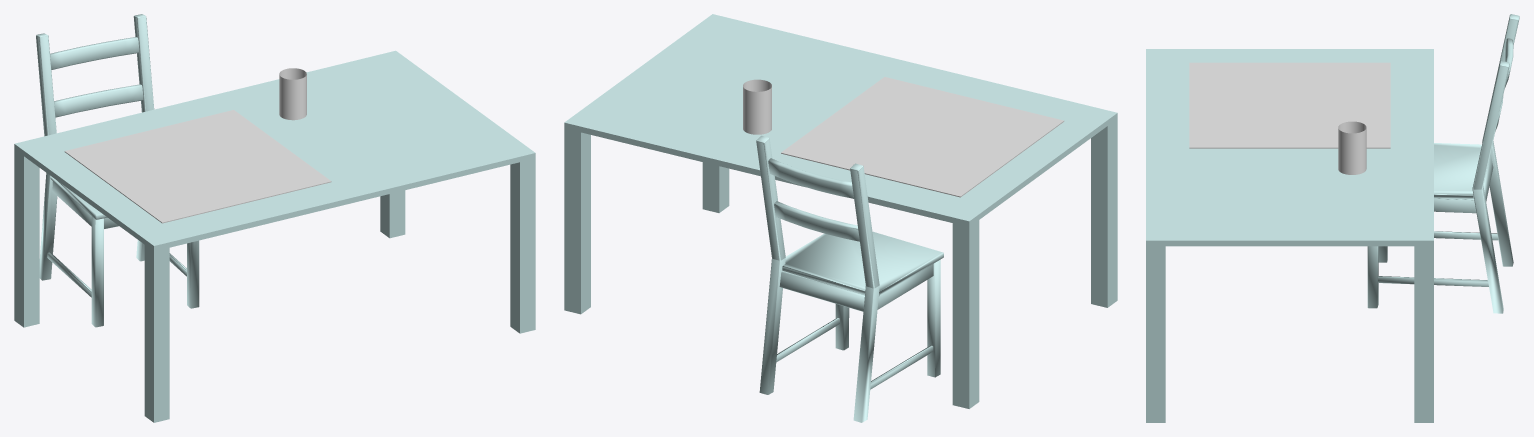
The model's file is chyss bg.fbx.
3 renders of one model, left to right at view 1: azimuth 30°, elevation 25°; view 2: azimuth 150°, elevation 25°; view 3: azimuth 270°, elevation 25°, orthographic. The views are drawn at different scales.
Parts seen in each view (by area): view 1: table, chyssboard, chair 1, water-glass; view 2: table, chair 1, chyssboard, water-glass; view 3: table, chyssboard, chair 1, water-glass.
Boxes of the visible parts, left/top/right/bottom form: table: left=14, top=50, right=535, bottom=422; chyssboard: left=64, top=110, right=331, bottom=223; chair 1: left=36, top=14, right=199, bottom=327; water-glass: left=279, top=68, right=306, bottom=120; table: left=564, top=14, right=1117, bottom=408; chair 1: left=756, top=135, right=943, bottom=422; chyssboard: left=781, top=77, right=1064, bottom=197; water-glass: left=743, top=79, right=771, bottom=134; table: left=1146, top=49, right=1433, bottom=422; chyssboard: left=1189, top=62, right=1390, bottom=148; chair 1: left=1367, top=14, right=1519, bottom=313; water-glass: left=1338, top=121, right=1366, bottom=174.
Bounding box in the file's own units: 223 × 135 × 183.
